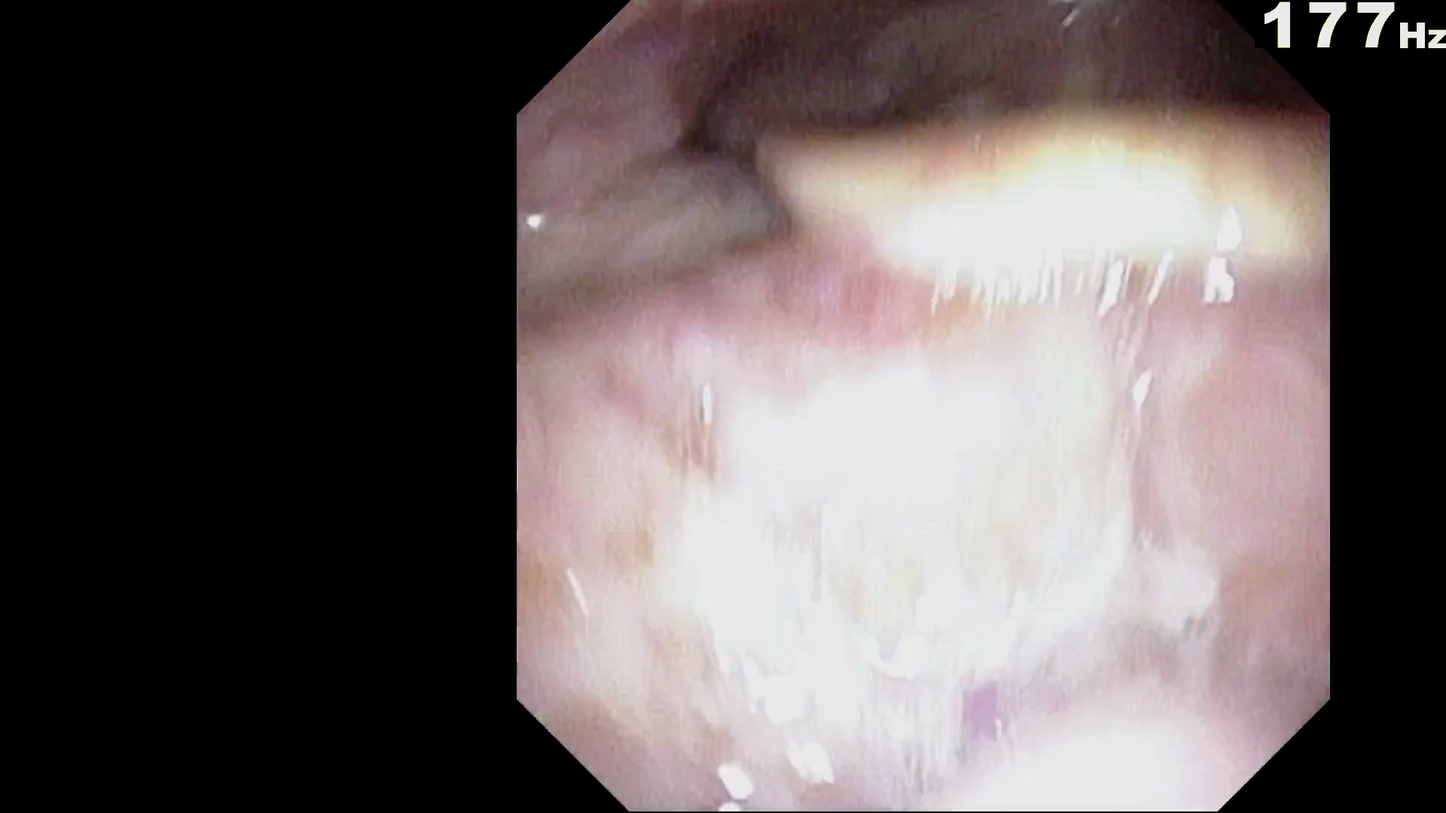epiglottis: (742, 233, 1313, 513)
trachea: (987, 173, 1134, 327)
